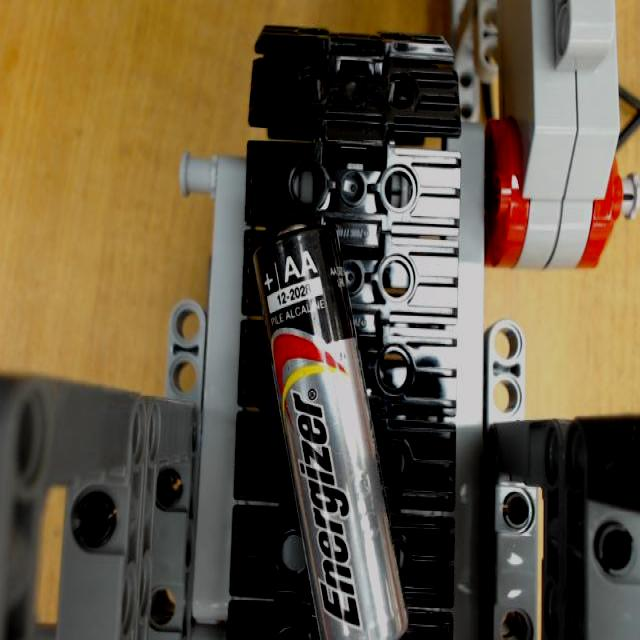AA: (250, 216, 411, 640)
